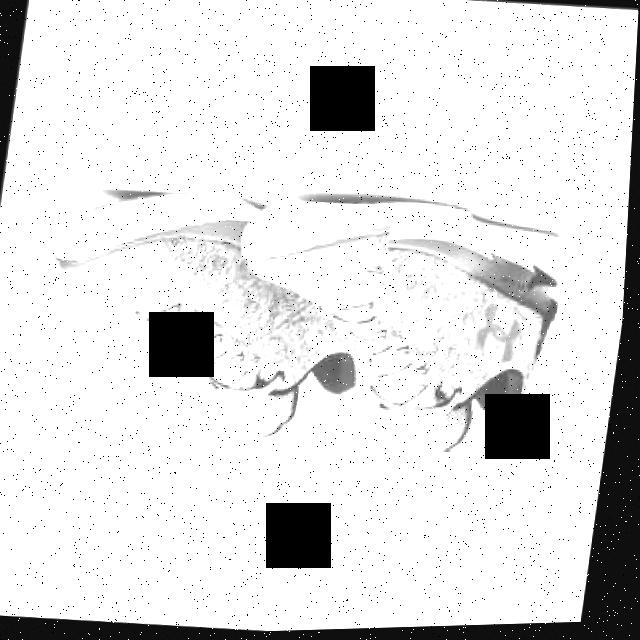shoe: (217, 186, 580, 467), (31, 180, 396, 452)
